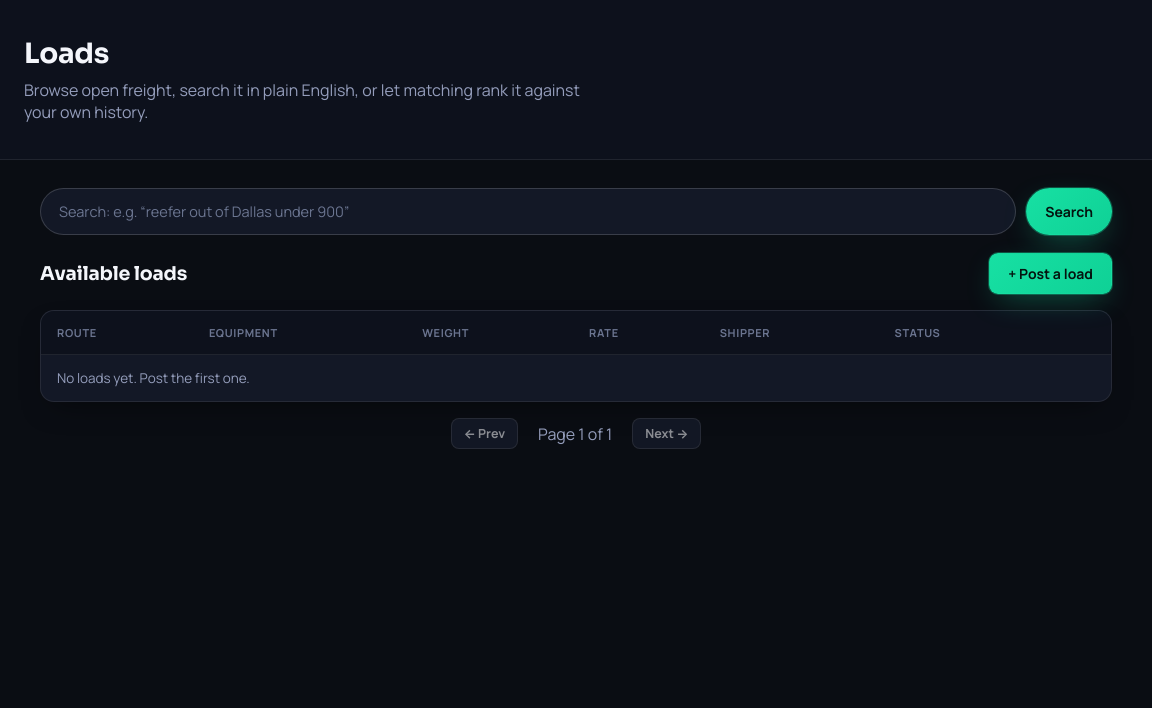
Test case: LoadsPage — post-a-load location fields › rejects submitting typed-but-not-selected text instead of silently posting it
This screenshot has width=1152, height=708.
Click the button "+ Post a load". click: click(1051, 274)
box: [989, 253, 1112, 294]
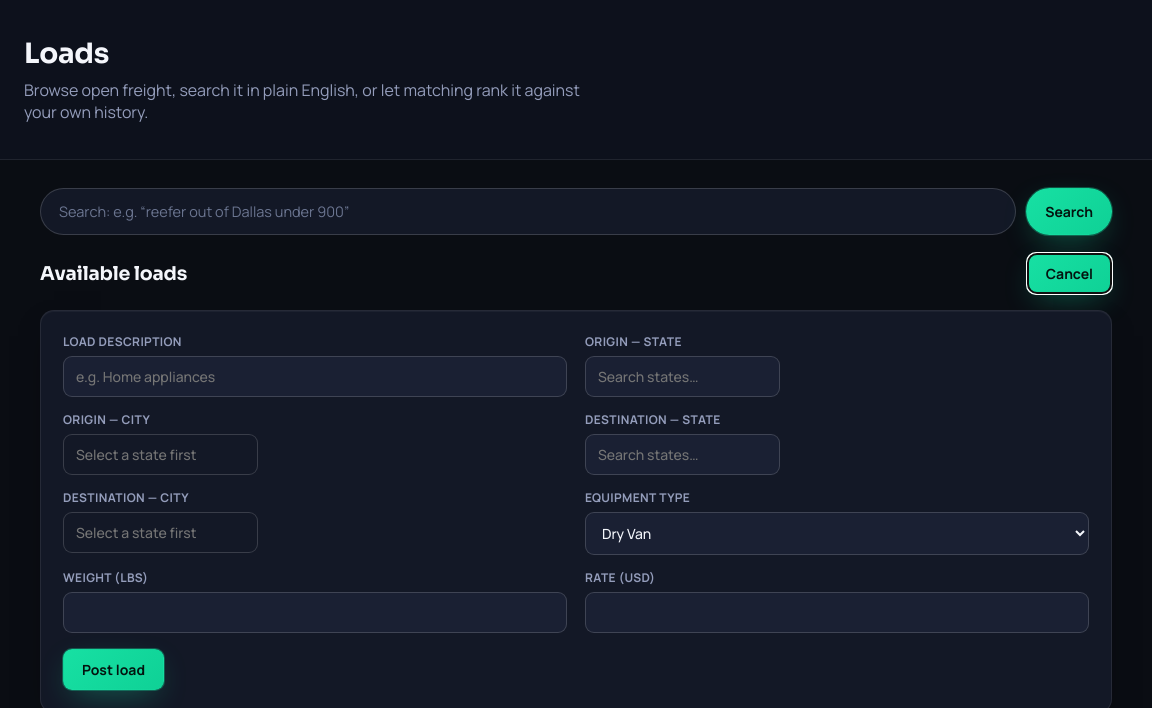
# Typed but never clicked a result — origin.state/.city never actually got set.
Type "Nowhereland" into the dropdown labelled "Origin — state". click: (682, 376)
box: [585, 356, 780, 397]
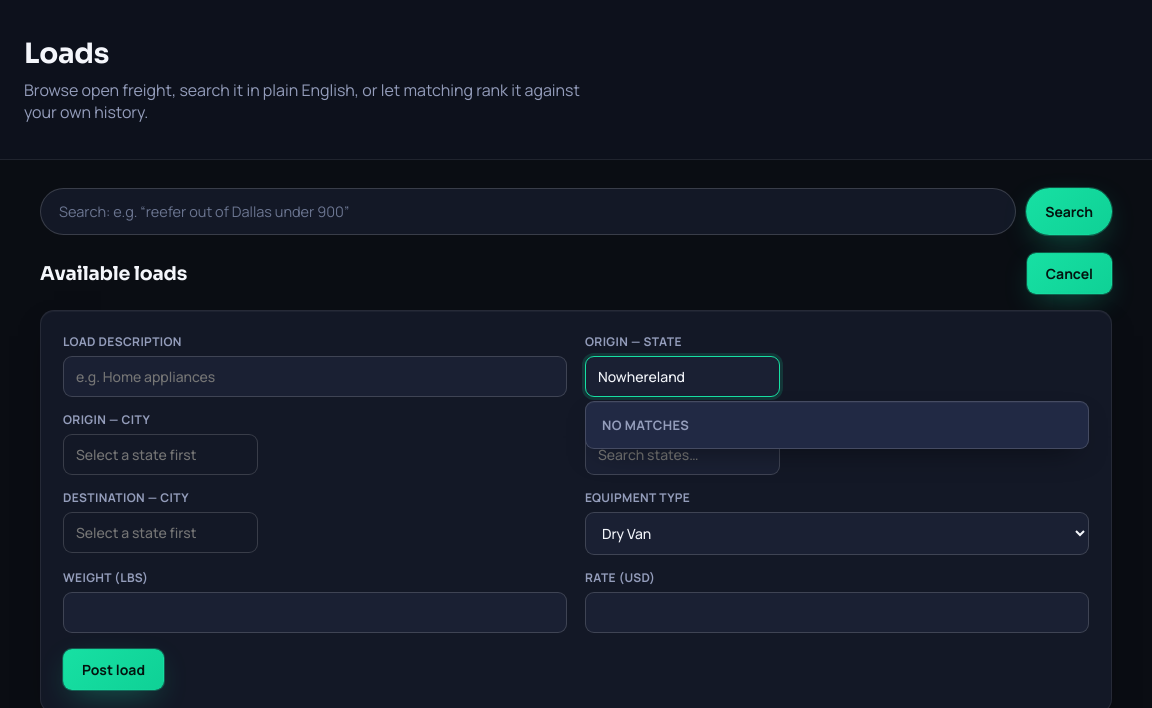
Type "Test cargo" into the field with placeholder "e.g. Home appliances". click: (315, 376)
box: [63, 356, 567, 397]
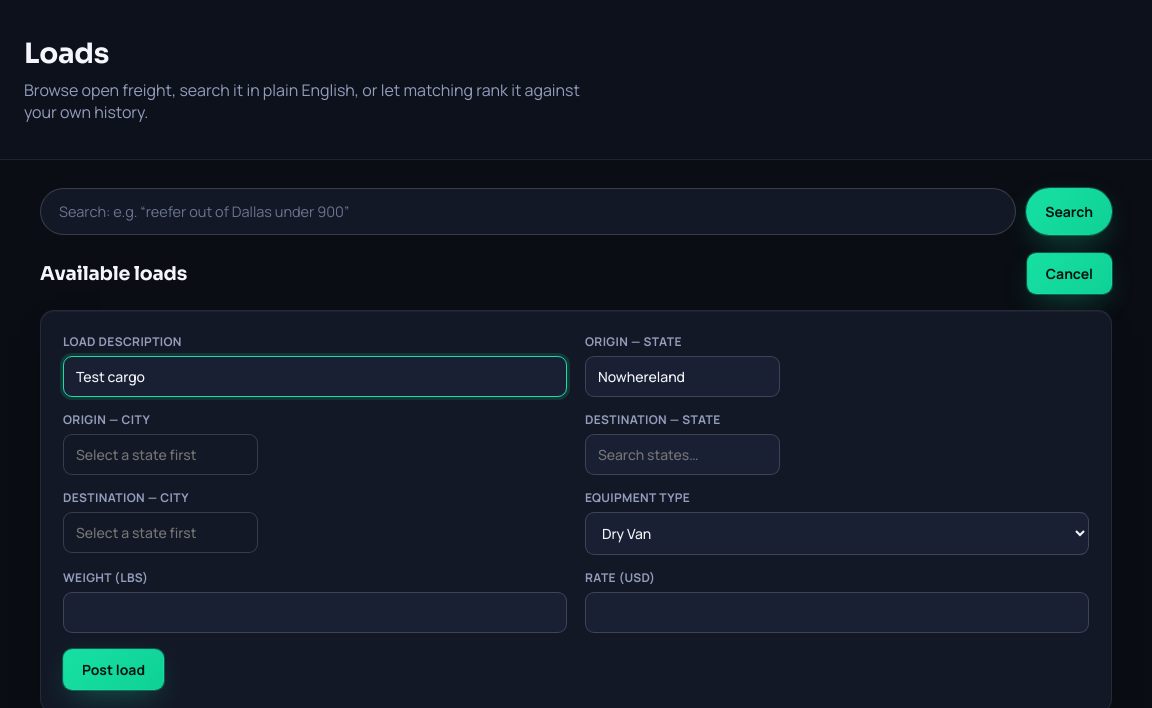
Type "10000" into the number field labelled "Weight (lbs)". click: (315, 612)
box: [63, 592, 567, 633]
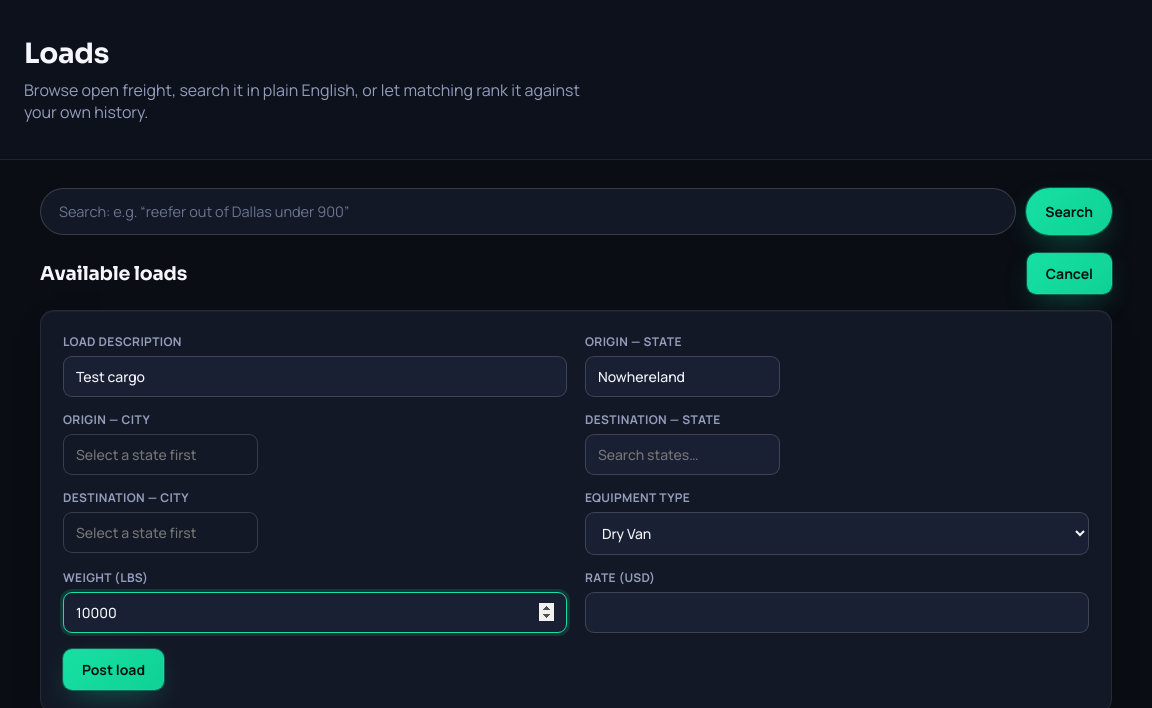
Type "500" into the number field labelled "Rate (USD)". click: (837, 612)
box: [585, 592, 1089, 633]
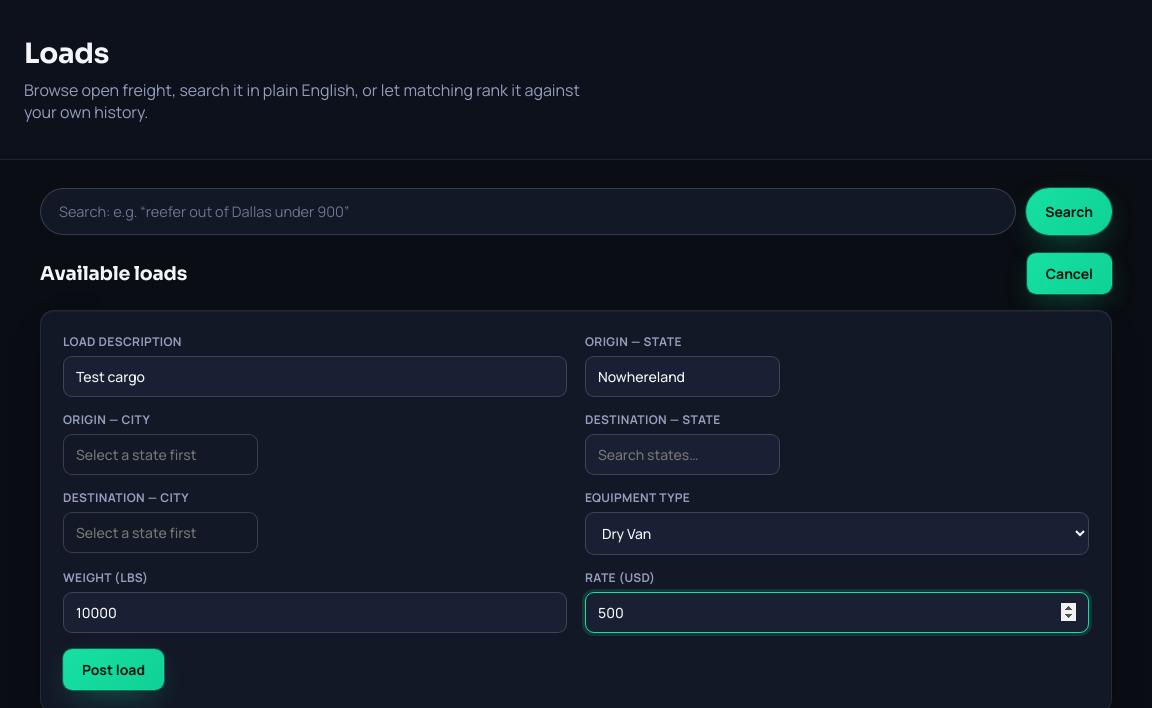
Click the button "Post load". click: click(114, 670)
box: [63, 649, 164, 690]
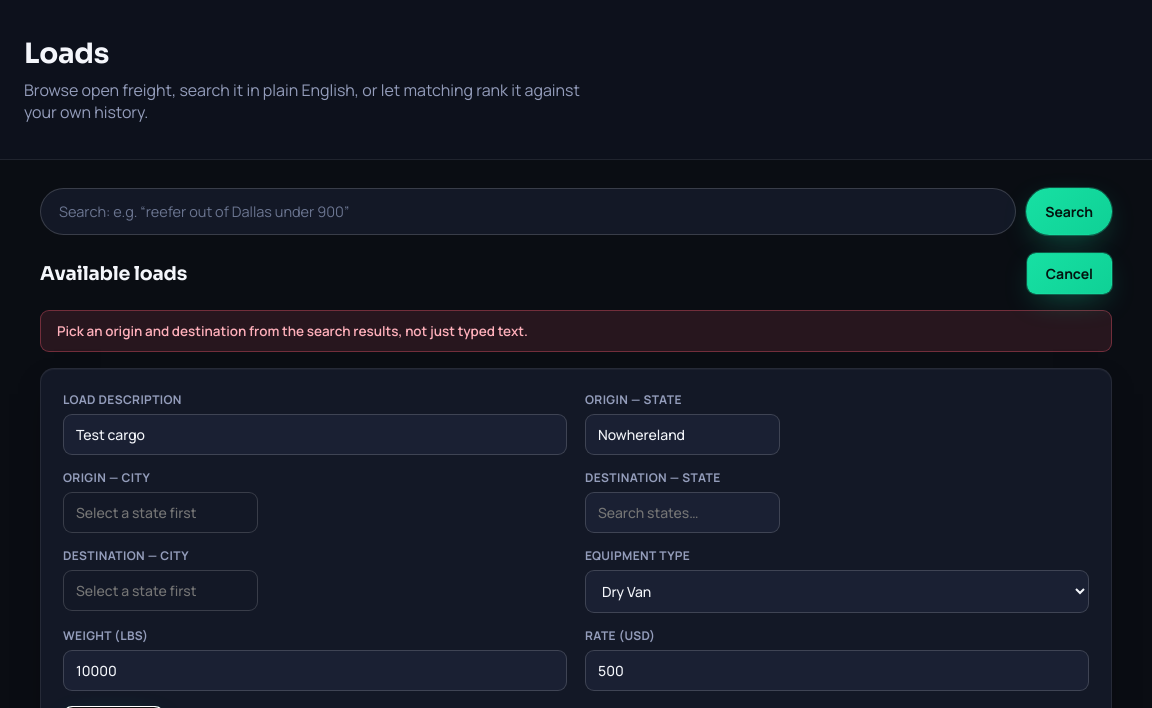
Expected: the text "Pick an origin and destination from the search results, not just typed text." is shown, [40, 310, 1112, 352]
